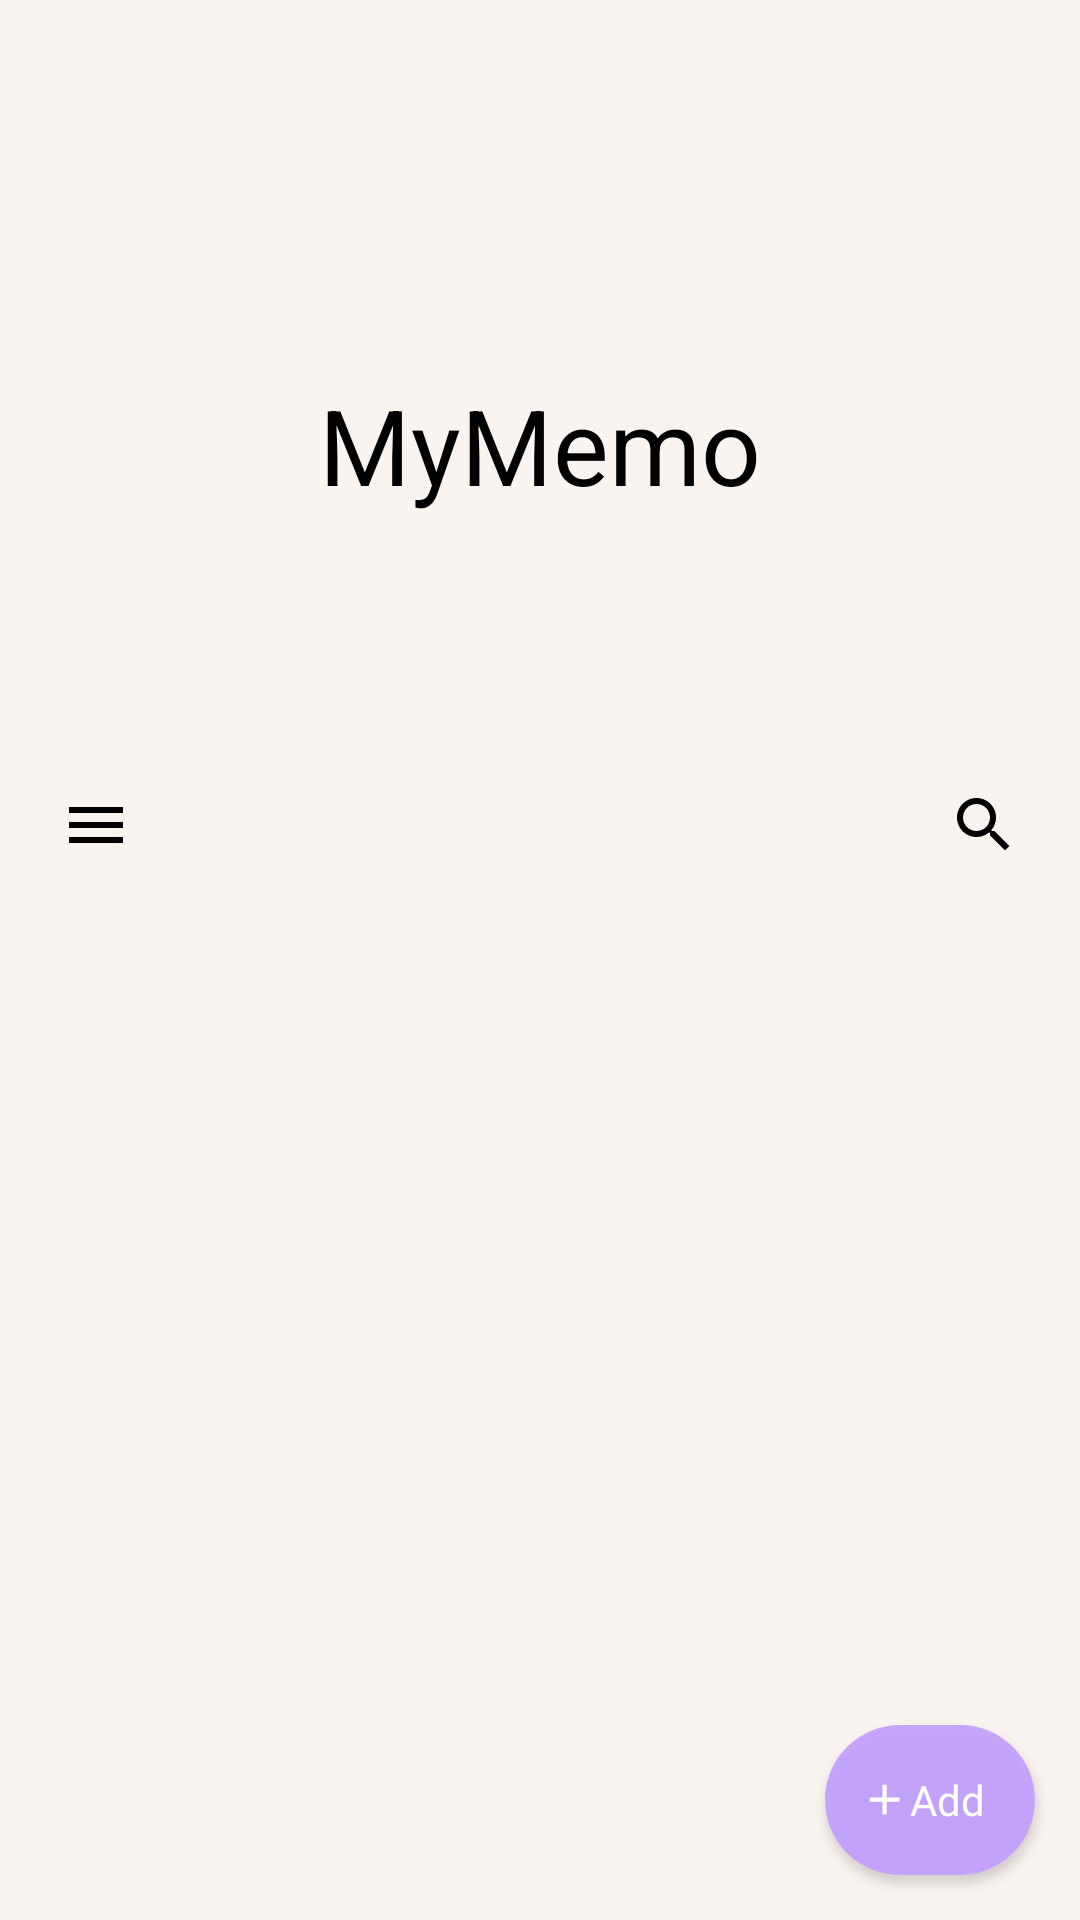

Icon bounding boxes for this 1080*1920 phone screenshot, format box=[x1, y1, x2, y2]:
drawer: box=[69, 807, 123, 843]
search: box=[957, 798, 1009, 850]
